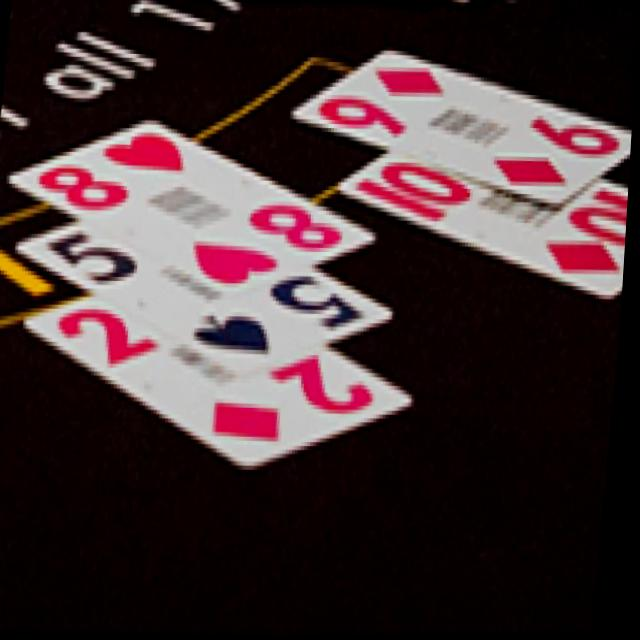Card-10: (341, 152, 631, 296)
Card-2: (27, 294, 415, 469)
Card-5: (20, 220, 397, 370)
Card-8: (10, 117, 378, 295)
Card-9: (292, 49, 633, 206)
